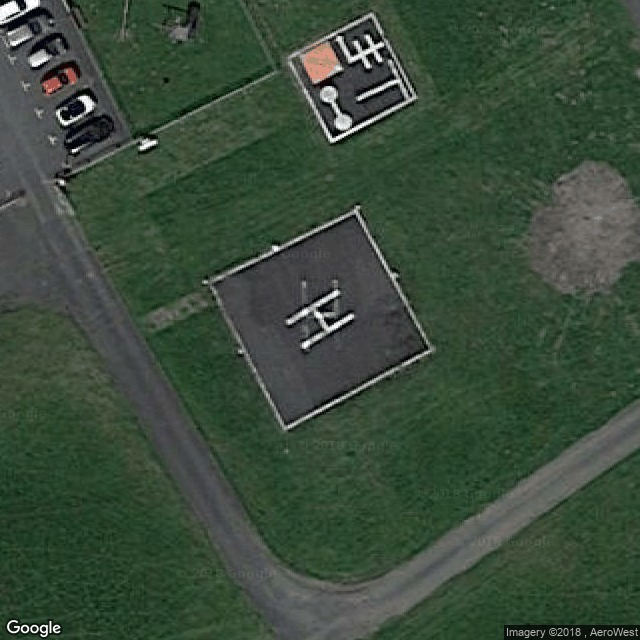heliport: (273, 278, 366, 355)
